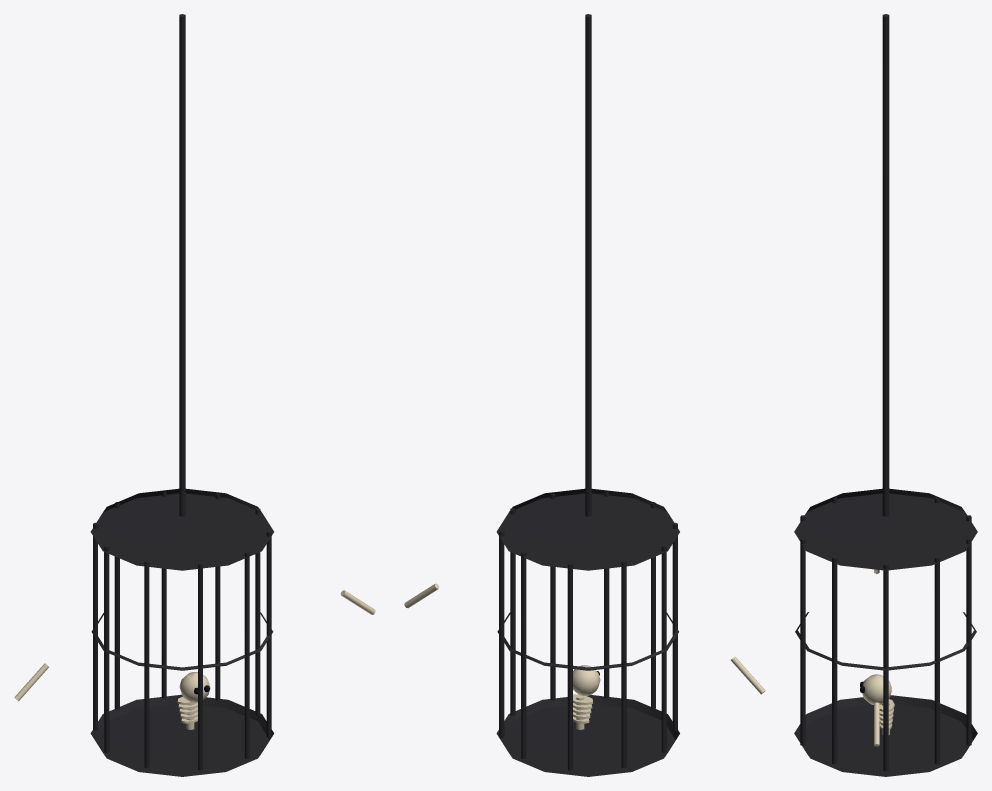
The model's file is lb4_cage.glb.
The picture shows the model from 3 angles, left to right: view 1: azimuth 30°, elevation 25°; view 2: azimuth 150°, elevation 25°; view 3: azimuth 270°, elevation 25°; orthographic projection.
Parts seen in each view (by area): view 1: lb4_cage; view 2: lb4_cage; view 3: lb4_cage.
Part boxes in pixels (left/top/right/bottom): lb4_cage: left=14, top=14, right=375, bottom=776; lb4_cage: left=404, top=14, right=765, bottom=776; lb4_cage: left=794, top=14, right=977, bottom=776.
Size of the model in its own units: 4.53 by 8.72 by 2.
